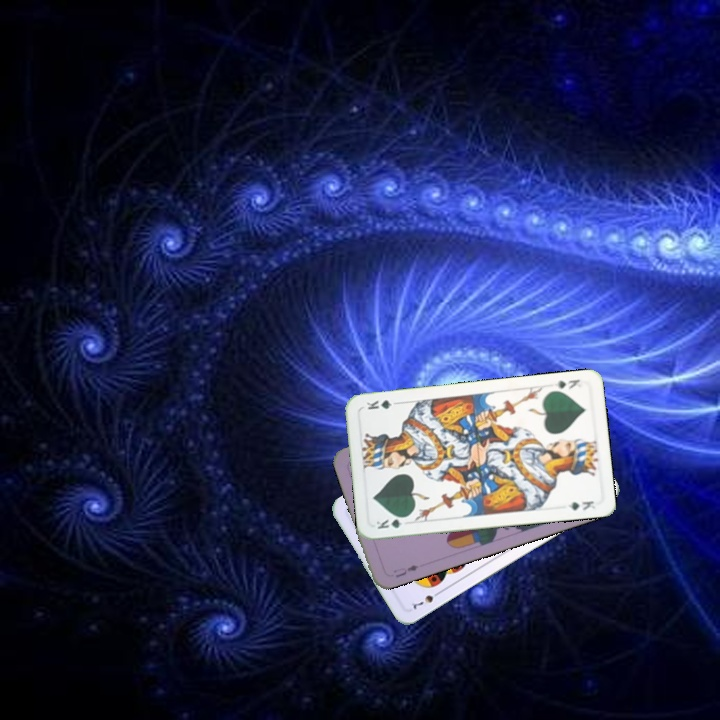EU: (389, 561, 421, 580)
GK: (372, 513, 411, 531), (550, 375, 583, 392)
S7: (407, 587, 444, 612)
